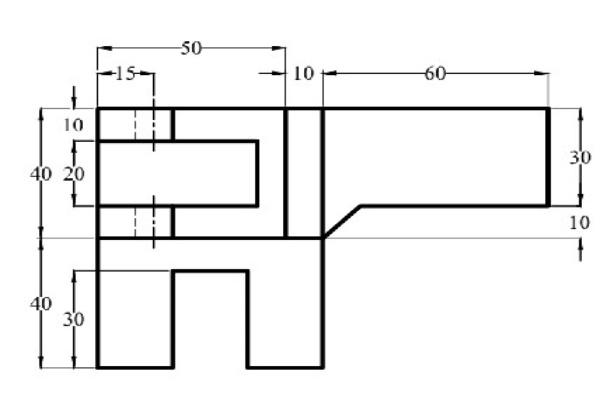dimensions: (415, 59, 453, 84), (26, 292, 58, 316), (57, 306, 90, 328), (286, 62, 319, 84), (566, 147, 595, 172), (178, 35, 206, 60), (25, 162, 55, 185), (569, 207, 593, 234), (62, 163, 89, 186), (112, 63, 139, 82), (61, 116, 88, 135)
